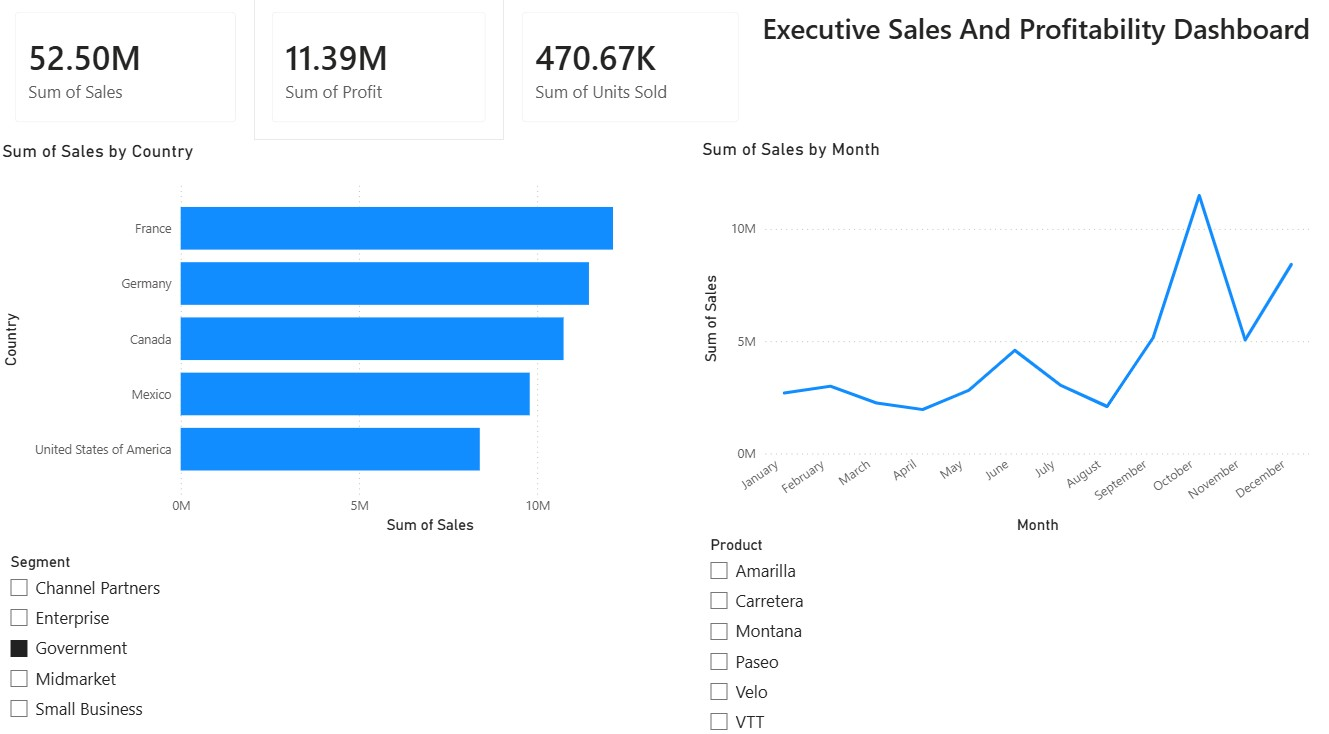

Layout of this report page (visuals, bound fields, positions):
{"tool":"powerbi","page":{"name":"Page 1","canvas":[1280,720],"ordinal":0},"visuals":[{"type":"cardVisual","fields":{"Data":["Sum(financials.Sales)"]},"box":[0,0,246.1,140.1],"z":0},{"type":"cardVisual","fields":{"Data":["Sum(financials.Profit)"]},"box":[246.1,0,239.3,140.1],"z":1000},{"type":"cardVisual","fields":{"Data":["Sum(financials.Units Sold)"]},"box":[485.3,0,242.2,140.1],"z":2000},{"type":"clusteredBarChart","fields":{"Category":["financials.Country"],"Y":["Sum(financials.Sales)"]},"box":[0,140.1,671.1,381.3],"z":3000},{"type":"lineChart","fields":{"Category":["financials.Date.Variation.Date Hierarchy.Month","financials.Date.Variation.Date Hierarchy.Day"],"Y":["Sum(financials.Sales)"]},"box":[670.7,138,592.1,383.2],"z":4000},{"type":"slicer","fields":{"Values":["financials.Segment"]},"box":[0,531,671,189],"z":4001},{"type":"slicer","fields":{"Values":["financials.Product"]},"box":[670.7,514.5,592.1,205],"z":4002},{"type":"textbox","box":[728.1,9.6,551.9,119.8],"z":4003}]}

Visuals, with their boxes in screenshot pixels (x1, y1, x2, y2), scaled from the page's 1280x720 canvas onto the 1329x734 screenshot:
cardVisual - Sum(financials.Sales): <region>0, 0, 256, 143</region>
cardVisual - Sum(financials.Profit): <region>256, 0, 504, 143</region>
cardVisual - Sum(financials.Units Sold): <region>504, 0, 755, 143</region>
clusteredBarChart - financials.Country x Sum(financials.Sales): <region>0, 143, 697, 532</region>
lineChart - financials.Date.Variation.Date Hierarchy.Month x financials.Date.Variation.Date Hierarchy.Day: <region>696, 141, 1311, 531</region>
slicer - financials.Segment: <region>0, 541, 697, 733</region>
slicer - financials.Product: <region>696, 525, 1311, 733</region>
textbox: <region>756, 10, 1328, 132</region>
